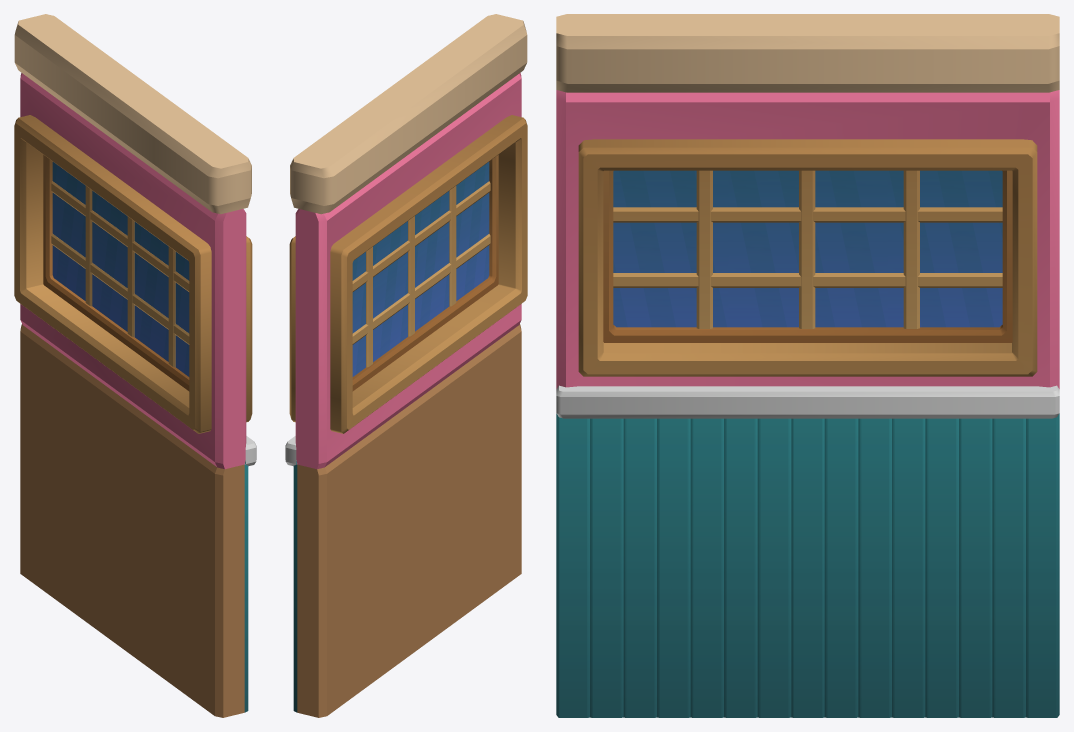
File: Wall_C_13.glb
3 renders of one model, left to right at view 1: azimuth 30°, elevation 25°; view 2: azimuth 150°, elevation 25°; view 3: azimuth 270°, elevation 25°, orthographic. The views are drawn at different scales.
Parts seen in each view (by area): view 1: Wall_C_13; view 2: Wall_C_13; view 3: Wall_C_13.
Part boxes in pixels (box(x1,y1,x2,y2)): Wall_C_13: box(14, 14, 256, 717); Wall_C_13: box(285, 14, 527, 717); Wall_C_13: box(556, 14, 1059, 717).
Size of the model in its own units: 0.3277 by 3 by 2.
2 materials, 2 textured.
